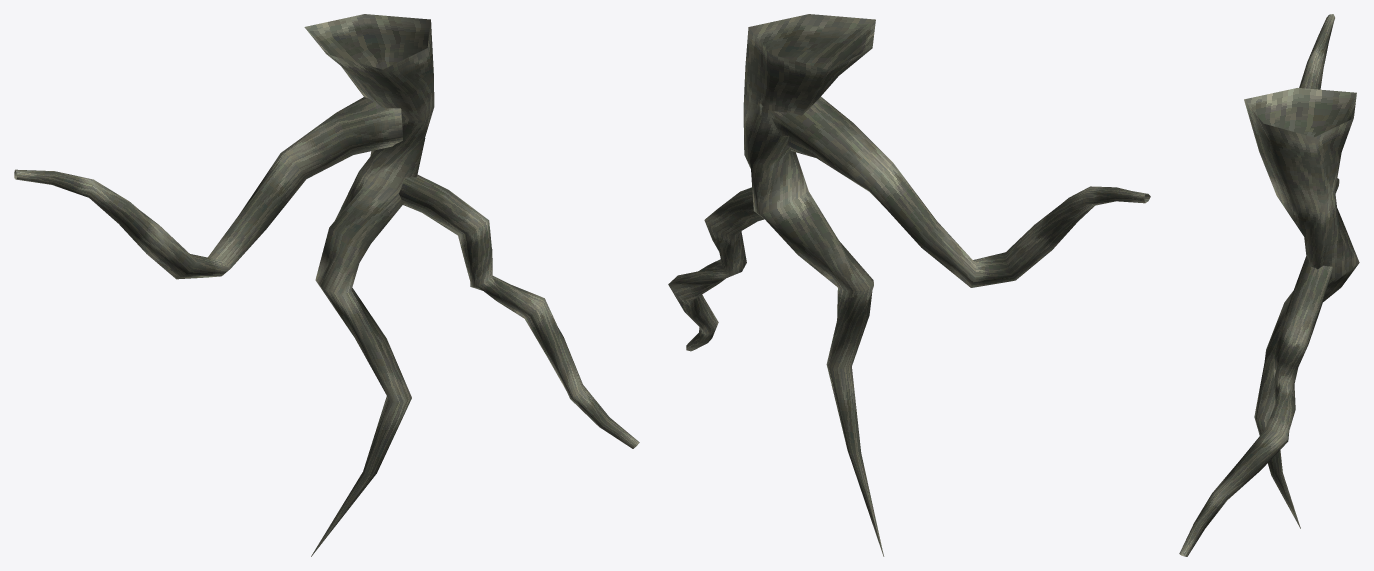
File: INST_TROLLHOLE_ROOTB.fbx
3 renders of one model, left to right at view 1: azimuth 30°, elevation 25°; view 2: azimuth 150°, elevation 25°; view 3: azimuth 270°, elevation 25°, orthographic. The views are drawn at different scales.
Visible parts, largest first — view 1: INST_TROLLHOLE_ROOTB; view 2: INST_TROLLHOLE_ROOTB; view 3: INST_TROLLHOLE_ROOTB.
Part boxes in pixels (<box>): INST_TROLLHOLE_ROOTB: <box>14,14,639,556</box>; INST_TROLLHOLE_ROOTB: <box>668,14,1150,556</box>; INST_TROLLHOLE_ROOTB: <box>1179,14,1359,556</box>.
Size of the model in its own units: 64743 by 57240 by 20930.
Materials: 1 (1 with a texture image).
